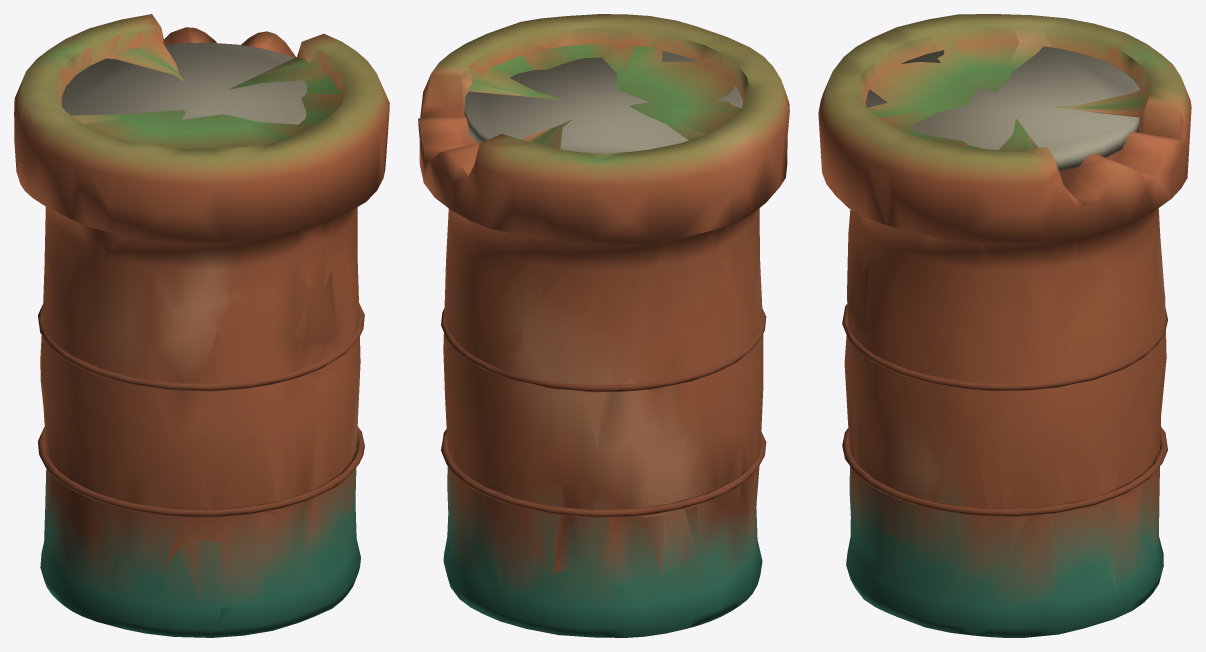
Rendered from grotto_clay_pipe_b_lod1.glb.
The picture shows the model from 3 angles, left to right: view 1: azimuth 30°, elevation 25°; view 2: azimuth 150°, elevation 25°; view 3: azimuth 270°, elevation 25°; orthographic projection.
Parts seen in each view (by area): view 1: grotto_clay_pipe_b.001; view 2: grotto_clay_pipe_b.001; view 3: grotto_clay_pipe_b.001.
Boxes of the visible parts, bbox=[...] form: grotto_clay_pipe_b.001: bbox=[14, 14, 389, 637]; grotto_clay_pipe_b.001: bbox=[418, 14, 789, 637]; grotto_clay_pipe_b.001: bbox=[818, 14, 1191, 637].
Bounding box in the file's own units: 6.98 × 10.05 × 7.01.
